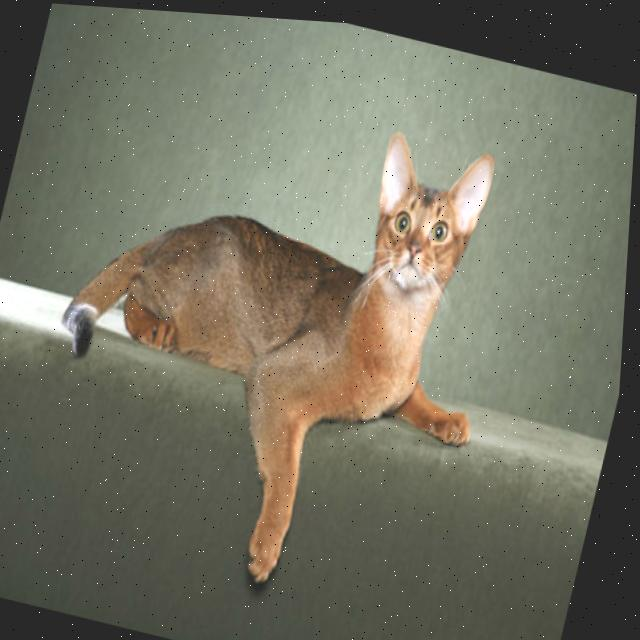Abyssinian: (10, 50, 546, 631)
